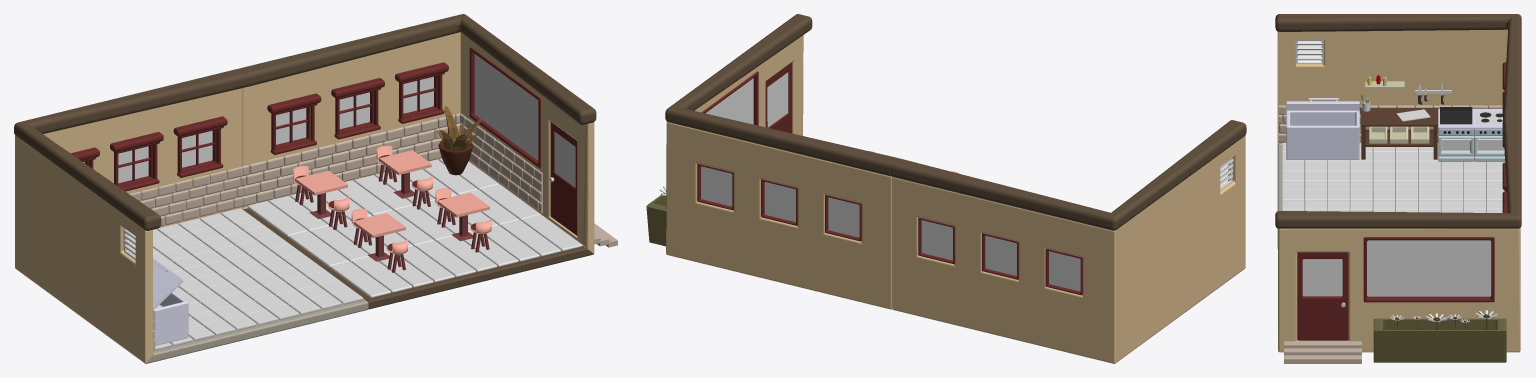
Rendered from isometric_room_join.fbx.
3 views of the same model, side by side, from view 1: azimuth 30°, elevation 25°; view 2: azimuth 150°, elevation 25°; view 3: azimuth 270°, elevation 25° (orthographic). The views are drawn at different scales.
Parts seen in each view (by area): view 1: Cube, Cube.043, Cube.054, Cube.011, Cube.002, Cube.052, Cube.055, Cube.056, Cube.060, Plane.003, Cube.014, Cube.018 (+13 smaller); view 2: Cube, Cube.054, Cube.002, Cube.052, Plane.002, Plane.001, Cube.062, Cube.018, Cube.056, Plane.003, Cube.064, Cube.059; view 3: Cube, Cube.011, Cube.054, Plane.003, Cube.052, Cube.064, Cube.002, Cube.062, Cube.041, Cube.059, Cube.063, Cube.032 (+16 smaller).
Boxes of the visible parts, <box> form: Cube: <box>15,88,368,363</box>; Cube.043: <box>247,158,582,297</box>; Cube.054: <box>242,32,594,309</box>; Cube.011: <box>127,208,363,351</box>; Cube.002: <box>14,69,247,230</box>; Cube.052: <box>239,14,596,124</box>; Cube.055: <box>242,113,460,206</box>; Cube.056: <box>267,62,448,154</box>; Cube.060: <box>295,150,489,261</box>; Plane.003: <box>474,54,538,160</box>; Cube.014: <box>129,166,243,226</box>; Cube.018: <box>71,116,227,191</box>; Cube: <box>892,135,1245,363</box>; Cube.054: <box>666,35,892,309</box>; Cube.002: <box>891,120,1246,230</box>; Cube.052: <box>665,14,899,176</box>; Plane.002: <box>701,166,859,237</box>; Plane.001: <box>921,220,1080,291</box>; Cube.062: <box>765,62,792,133</box>; Cube.018: <box>918,217,1082,295</box>; Cube.056: <box>697,163,861,241</box>; Plane.003: <box>705,78,753,124</box>; Cube.064: <box>646,191,666,246</box>; Cube.059: <box>701,71,758,125</box>; Cube: <box>1277,29,1507,248</box>; Cube.011: <box>1282,142,1505,212</box>; Cube.054: <box>1278,228,1520,352</box>; Plane.003: <box>1367,240,1491,296</box>; Cube.052: <box>1275,114,1521,228</box>; Cube.064: <box>1373,318,1506,362</box>; Cube.002: <box>1275,14,1521,117</box>; Cube.062: <box>1297,252,1348,340</box>; Cube.041: <box>1286,110,1359,160</box>; Cube.059: <box>1363,237,1494,302</box>; Cube.063: <box>1284,341,1361,363</box>; Cube.032: <box>1360,108,1438,126</box>.
Size of the model in its own units: 1321 by 385 by 633.
